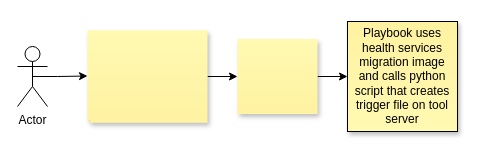
Some shapes in this 481 by 156 pixel diagram are drawn without their labels. Here are the shapes that lost their labels. From the top down, the centre of each, then its label:
the point at 148,77: Submits job in devops marketplace. No input to the job. Job uses user's Lan ID
the point at 278,77: Playbook triggered in Ansible Tower
